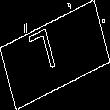L_S: (38, 26, 72, 84)
